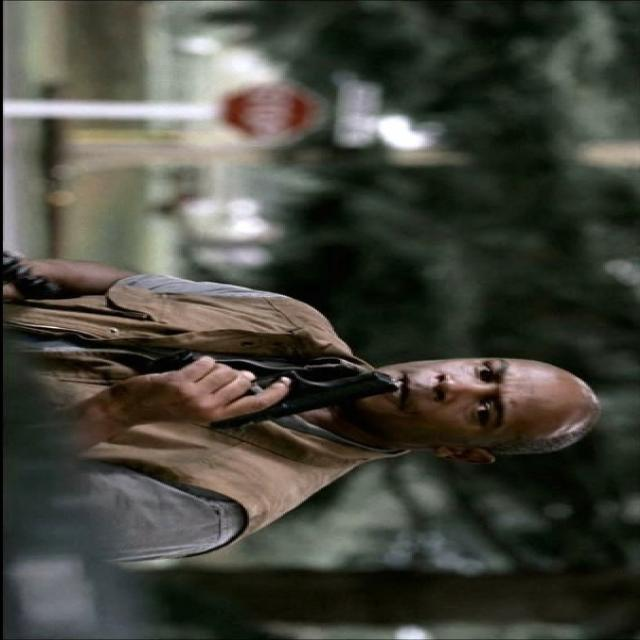weapons: (162, 338, 412, 435)
